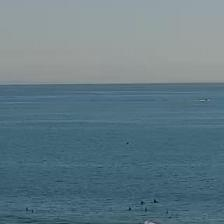surfer: (153, 199, 158, 203), (25, 206, 29, 210), (145, 208, 148, 213), (128, 207, 132, 210), (168, 216, 172, 219), (165, 211, 169, 214), (31, 210, 34, 213), (141, 201, 144, 204)
